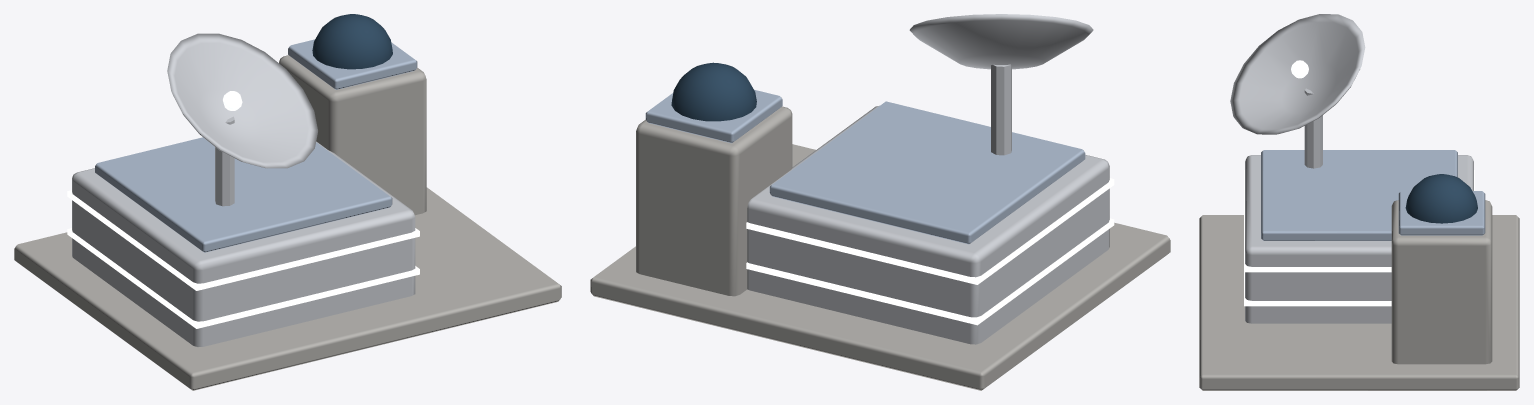
File: lab.glb
3 views of the same model, side by side, from view 1: azimuth 30°, elevation 25°; view 2: azimuth 150°, elevation 25°; view 3: azimuth 270°, elevation 25° (orthographic). The views are drawn at different scales.
Parts seen in each view (by area): view 1: lab; view 2: lab; view 3: lab.
Part boxes in pixels (x1=…): lab: x1=14, y1=14, x2=561, y2=390; lab: x1=590, y1=14, x2=1170, y2=390; lab: x1=1199, y1=14, x2=1519, y2=390.
Size of the model in its own units: 0.84 by 0.5848 by 0.7.
